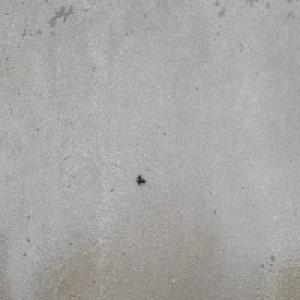BoltWasher: (136, 174, 145, 185)
